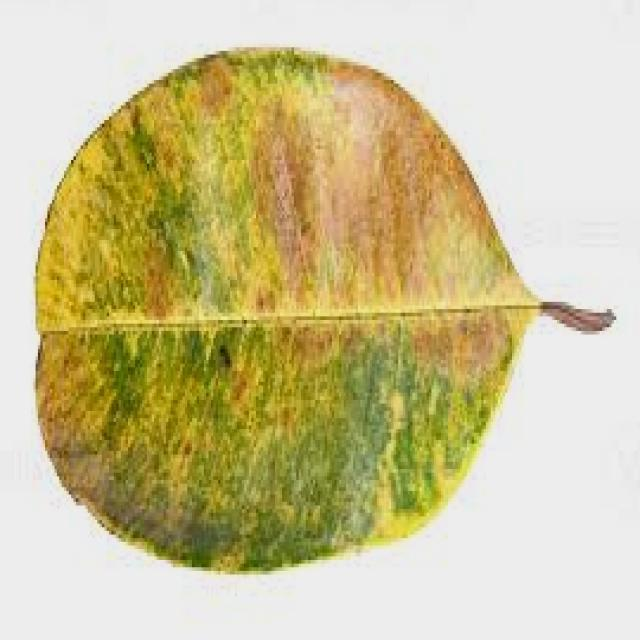leaf: (33, 45, 614, 573)
